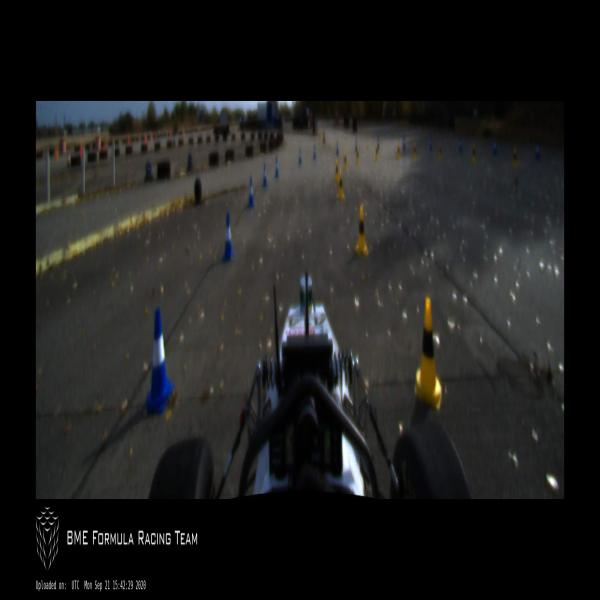blue_cone: (144, 308, 173, 416), (221, 213, 235, 263), (247, 178, 255, 206), (274, 158, 280, 177), (262, 164, 267, 186), (535, 139, 541, 157), (402, 136, 406, 152), (458, 138, 462, 153), (312, 146, 316, 160), (298, 148, 301, 166), (493, 138, 496, 154), (377, 136, 380, 150), (336, 142, 339, 155), (430, 136, 432, 151), (355, 136, 357, 150)
orange_cone: (67, 148, 70, 165)
unknown_cone: (323, 126, 326, 144)
yellow_cone: (415, 297, 442, 409), (354, 206, 368, 256), (336, 166, 344, 200), (438, 139, 444, 164), (334, 158, 340, 182), (471, 143, 477, 166), (512, 145, 518, 164), (412, 141, 417, 162), (342, 148, 347, 168), (396, 140, 400, 160), (356, 146, 360, 163), (374, 143, 378, 160)
